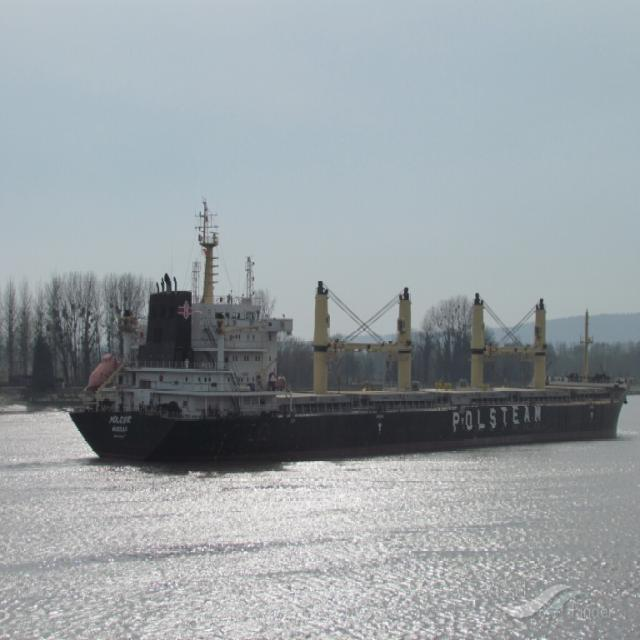OCR: (440, 406, 546, 436), (107, 412, 139, 446)
